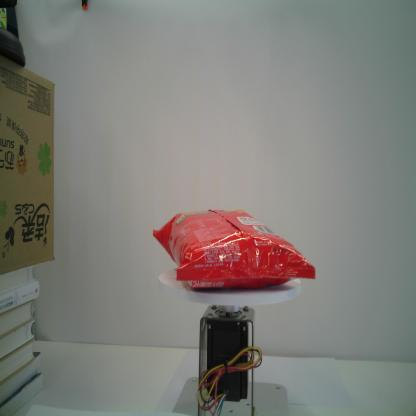Puffed Food: (150, 205, 318, 291)
